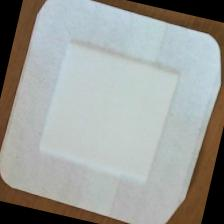Dressing: (1, 1, 224, 224)
